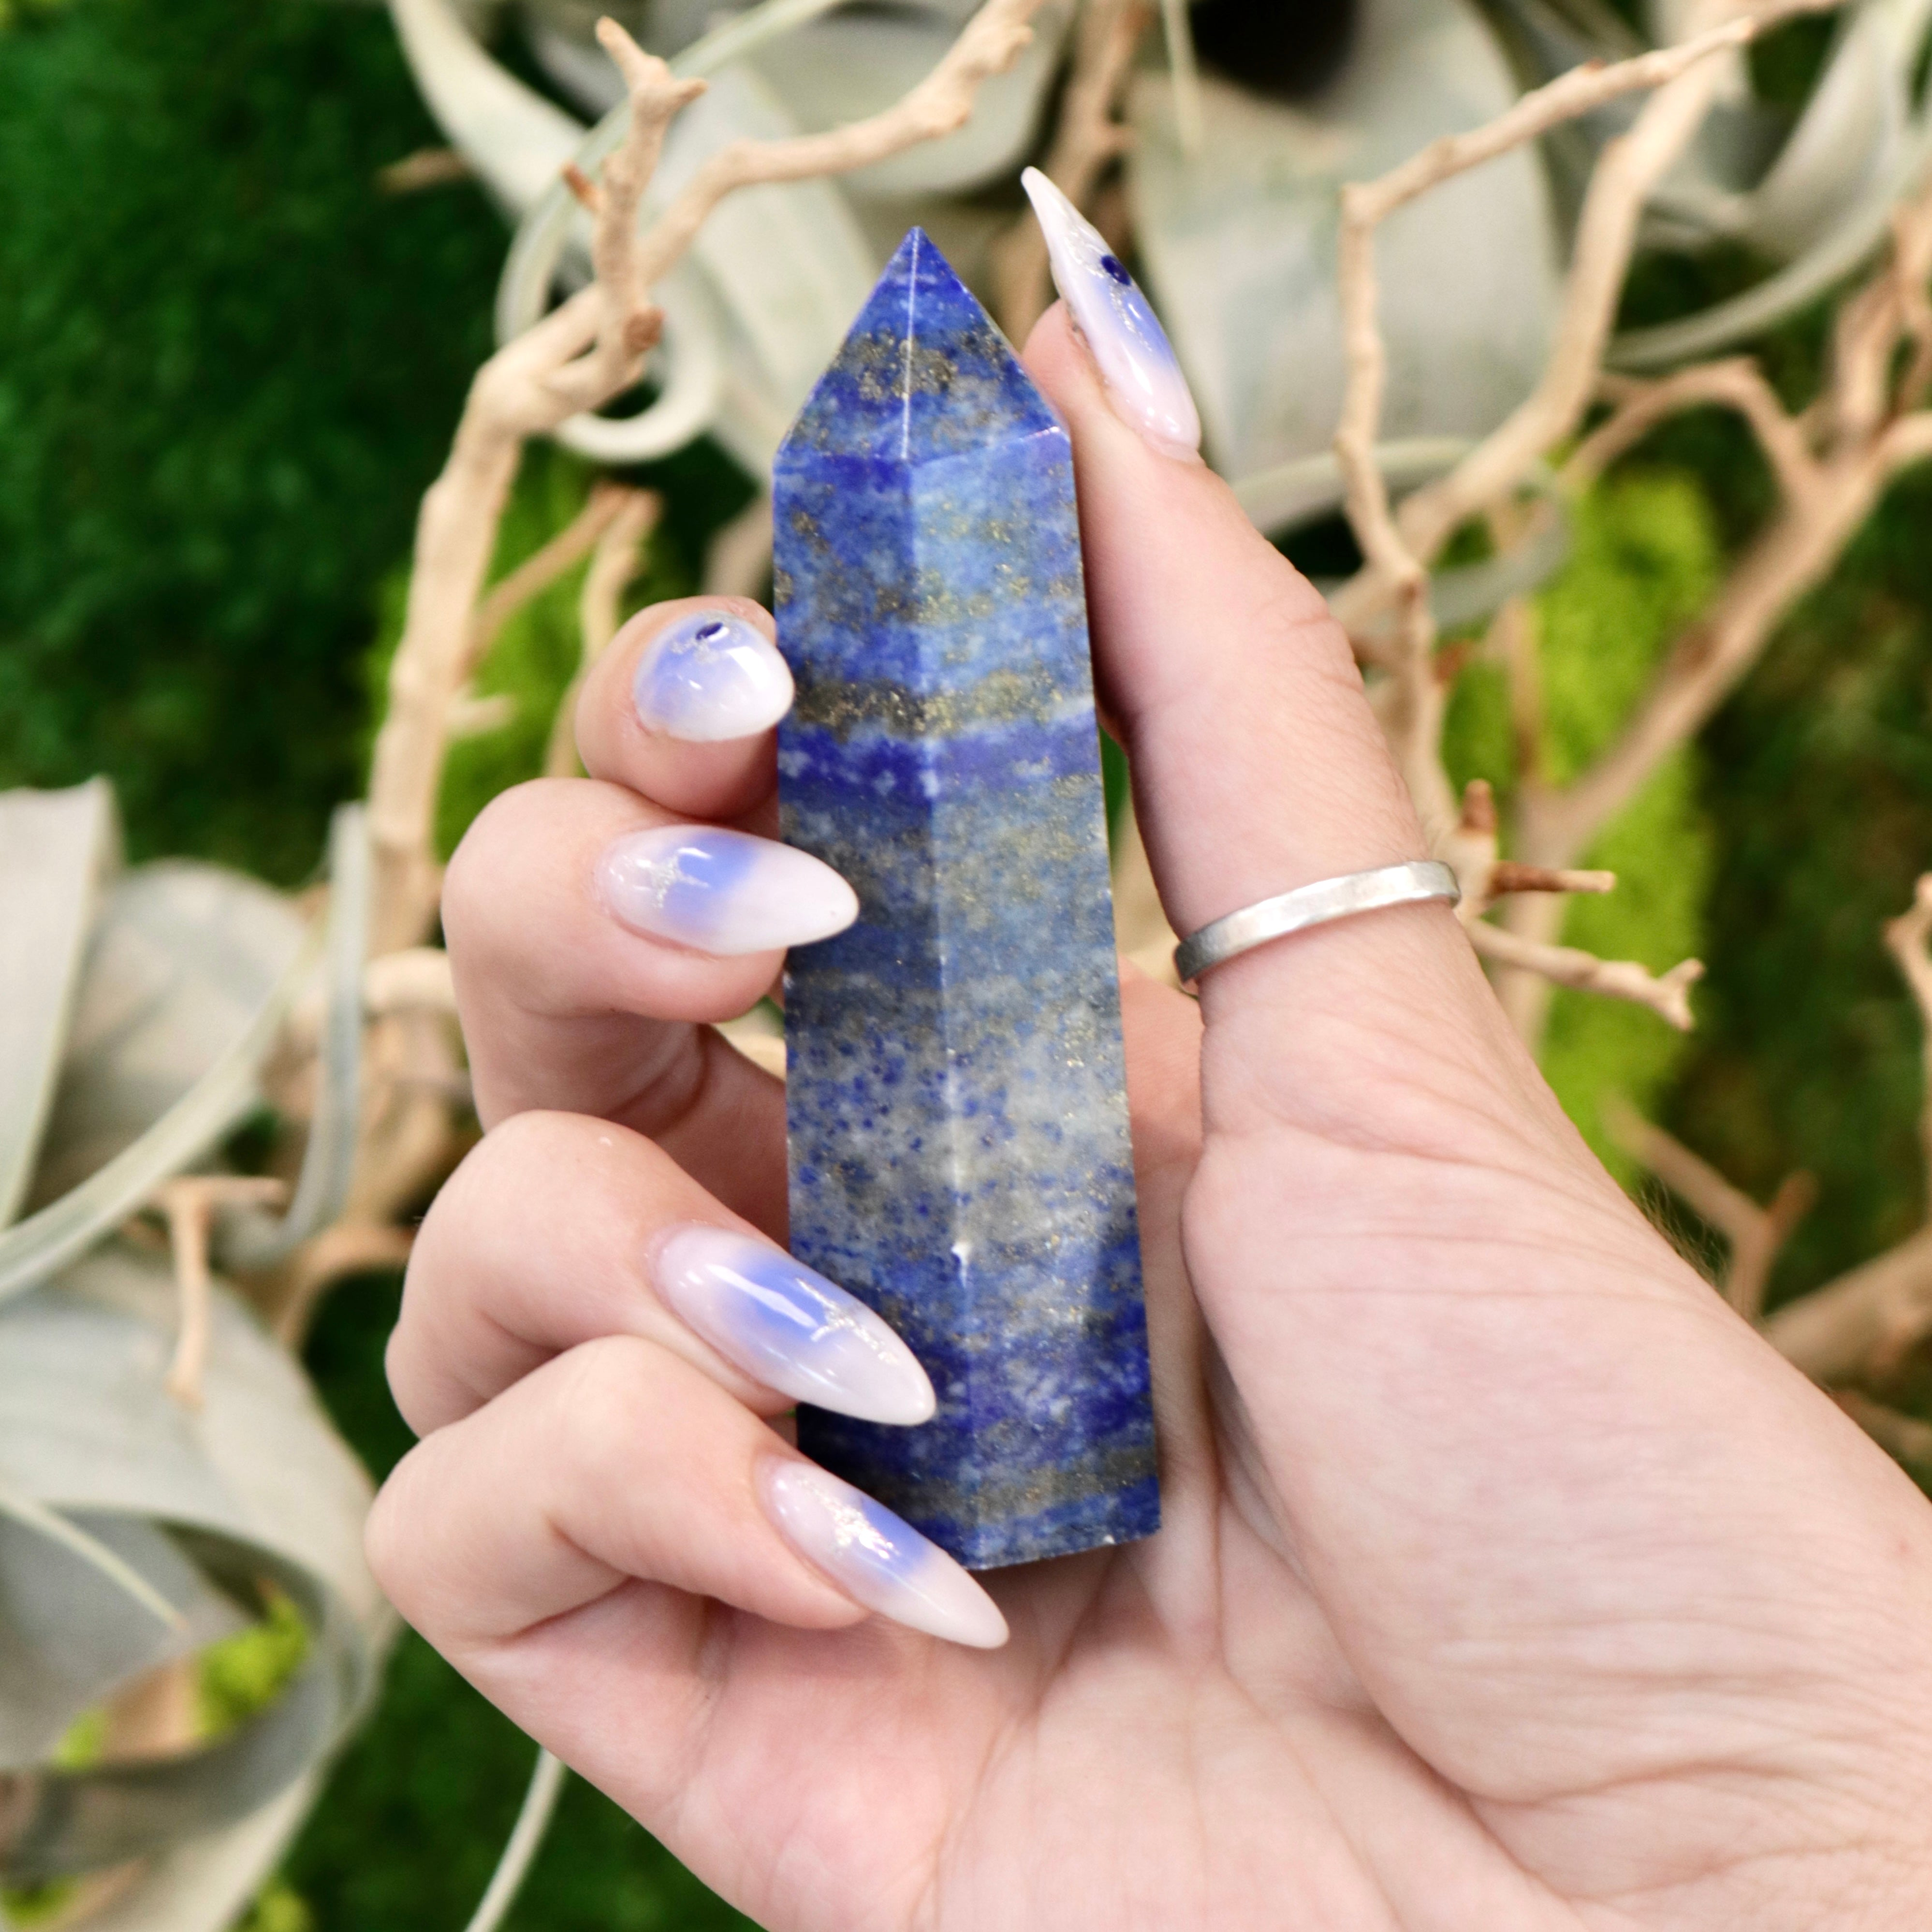Lapis_Lazuli: (766, 216, 1161, 1582)
